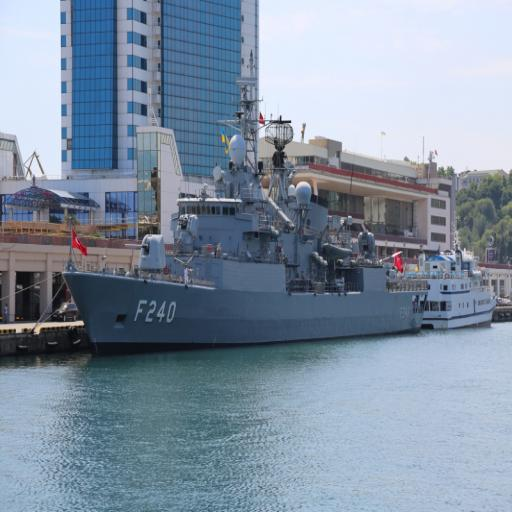Fragata: (56, 49, 434, 365)
